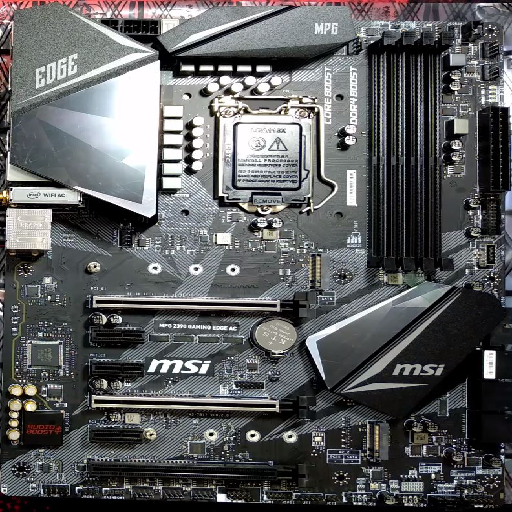CPU: (212, 96, 324, 215)
GPU: (88, 292, 316, 321), (88, 393, 319, 421)
MOTHERBOARD: (3, 8, 512, 511)
RAM: (365, 30, 452, 283)
SSD: (309, 252, 323, 293)
